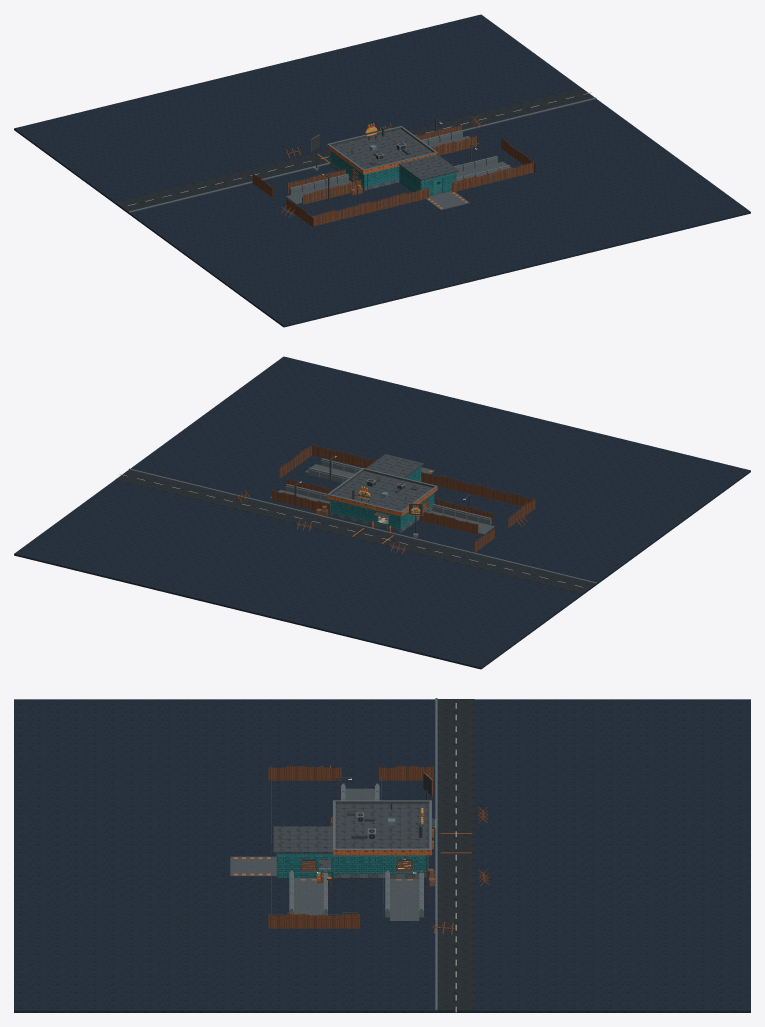
Rendered from shop_greybox.glb.
The picture shows the model from 3 angles, top to bottom: view 1: azimuth 30°, elevation 25°; view 2: azimuth 150°, elevation 25°; view 3: azimuth 270°, elevation 25°; orthographic projection. The views are drawn at different scales.
Parts seen in each view (by area): view 1: Ground, Road, Decor_Fences, Roof, Decor_Shell, GarageRoof, Lane_B, Walls_Exterior, Lane_C, GarageShell; view 2: Ground, Road, Decor_Fences, Roof, Decor_Shell, Walls_Exterior, GarageRoof, Lane_C, Lane_B, Decor_Exterior, Lane_A; view 3: Ground, Road, Roof, Decor_Fences, Decor_Shell, Lane_A, GarageRoof, Lane_C, Walls_Exterior, GarageShell, Decor_Exterior, Lane_B (+1 smaller).
Part boxes in pixels (<box>): Ground: <box>14,14,750,327</box>; Road: <box>115,88,596,212</box>; Decor_Fences: <box>252,125,535,227</box>; Roof: <box>332,129,432,169</box>; Decor_Shell: <box>327,126,437,190</box>; GarageRoof: <box>398,154,458,180</box>; Lane_B: <box>286,173,358,203</box>; Walls_Exterior: <box>330,151,399,187</box>; Lane_C: <box>454,144,513,183</box>; GarageShell: <box>399,166,456,197</box>; Ground: <box>14,356,750,669</box>; Road: <box>115,467,596,593</box>; Decor_Fences: <box>271,444,535,552</box>; Roof: <box>332,471,432,511</box>; Decor_Shell: <box>327,468,437,532</box>; Walls_Exterior: <box>330,493,434,529</box>; GarageRoof: <box>366,454,423,479</box>; Lane_C: <box>305,455,362,482</box>; Lane_B: <box>428,494,494,534</box>; Decor_Exterior: <box>236,490,527,554</box>; Lane_A: <box>270,481,330,513</box>; Ground: <box>14,699,750,1012</box>; Road: <box>230,698,474,1012</box>; Roof: <box>335,803,429,848</box>; Decor_Fences: <box>268,765,433,928</box>; Decor_Shell: <box>333,800,431,878</box>; Lane_A: <box>385,870,428,920</box>; GarageRoof: <box>273,826,332,853</box>; Lane_C: <box>289,870,332,915</box>; Walls_Exterior: <box>336,855,428,873</box>; GarageShell: <box>276,853,336,878</box>; Decor_Exterior: <box>313,765,489,934</box>; Lane_B: <box>336,777,379,800</box>.
Size of the model in its own units: 80.5 by 5.97 by 80.
Materials: 89 (64 with a texture image).
